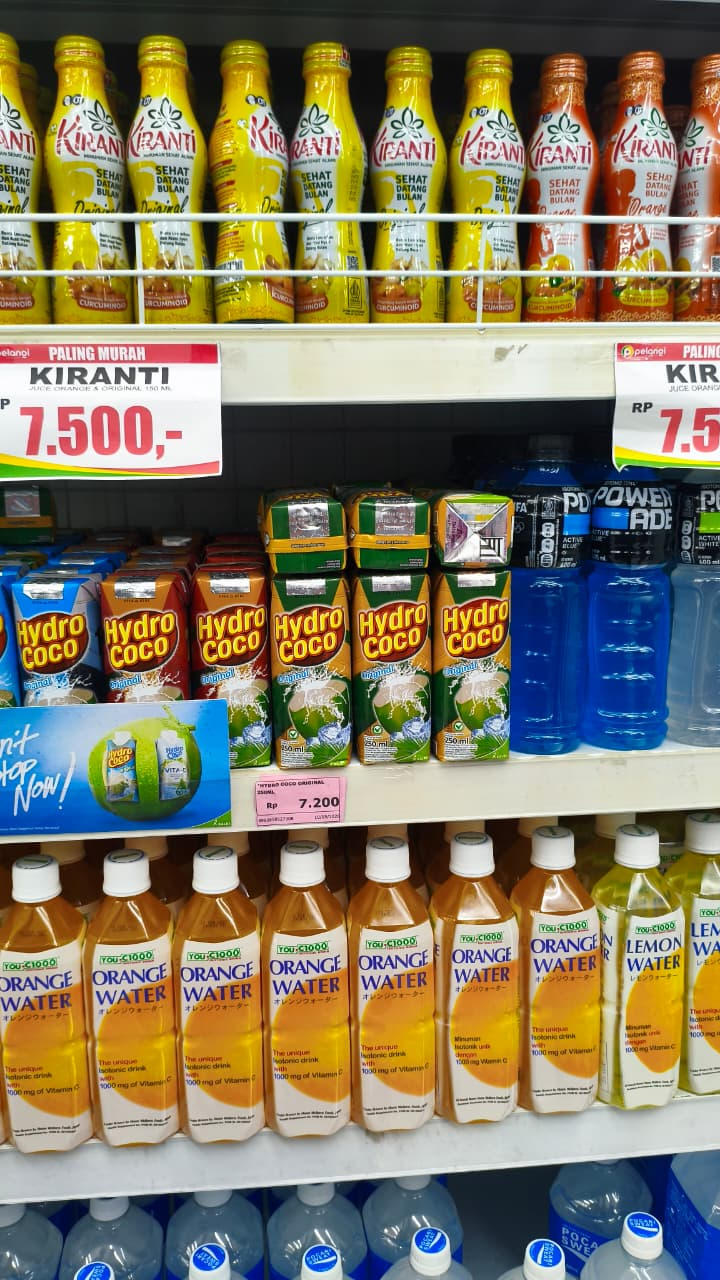Hydro coco: (11, 590, 110, 710), (97, 586, 196, 706), (184, 586, 283, 706), (263, 582, 362, 702), (344, 579, 443, 699)
Orange water: (81, 946, 176, 1104), (172, 947, 267, 1105), (519, 925, 614, 1083), (355, 937, 450, 1095), (264, 940, 359, 1098), (1, 947, 95, 1105)
